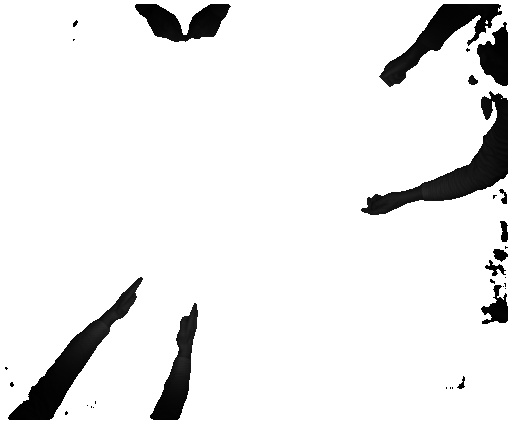fist: (376, 57, 410, 87)
hand: (143, 11, 189, 47), (188, 10, 231, 47), (360, 186, 403, 215)
spine: (104, 272, 143, 325), (175, 299, 199, 353)
